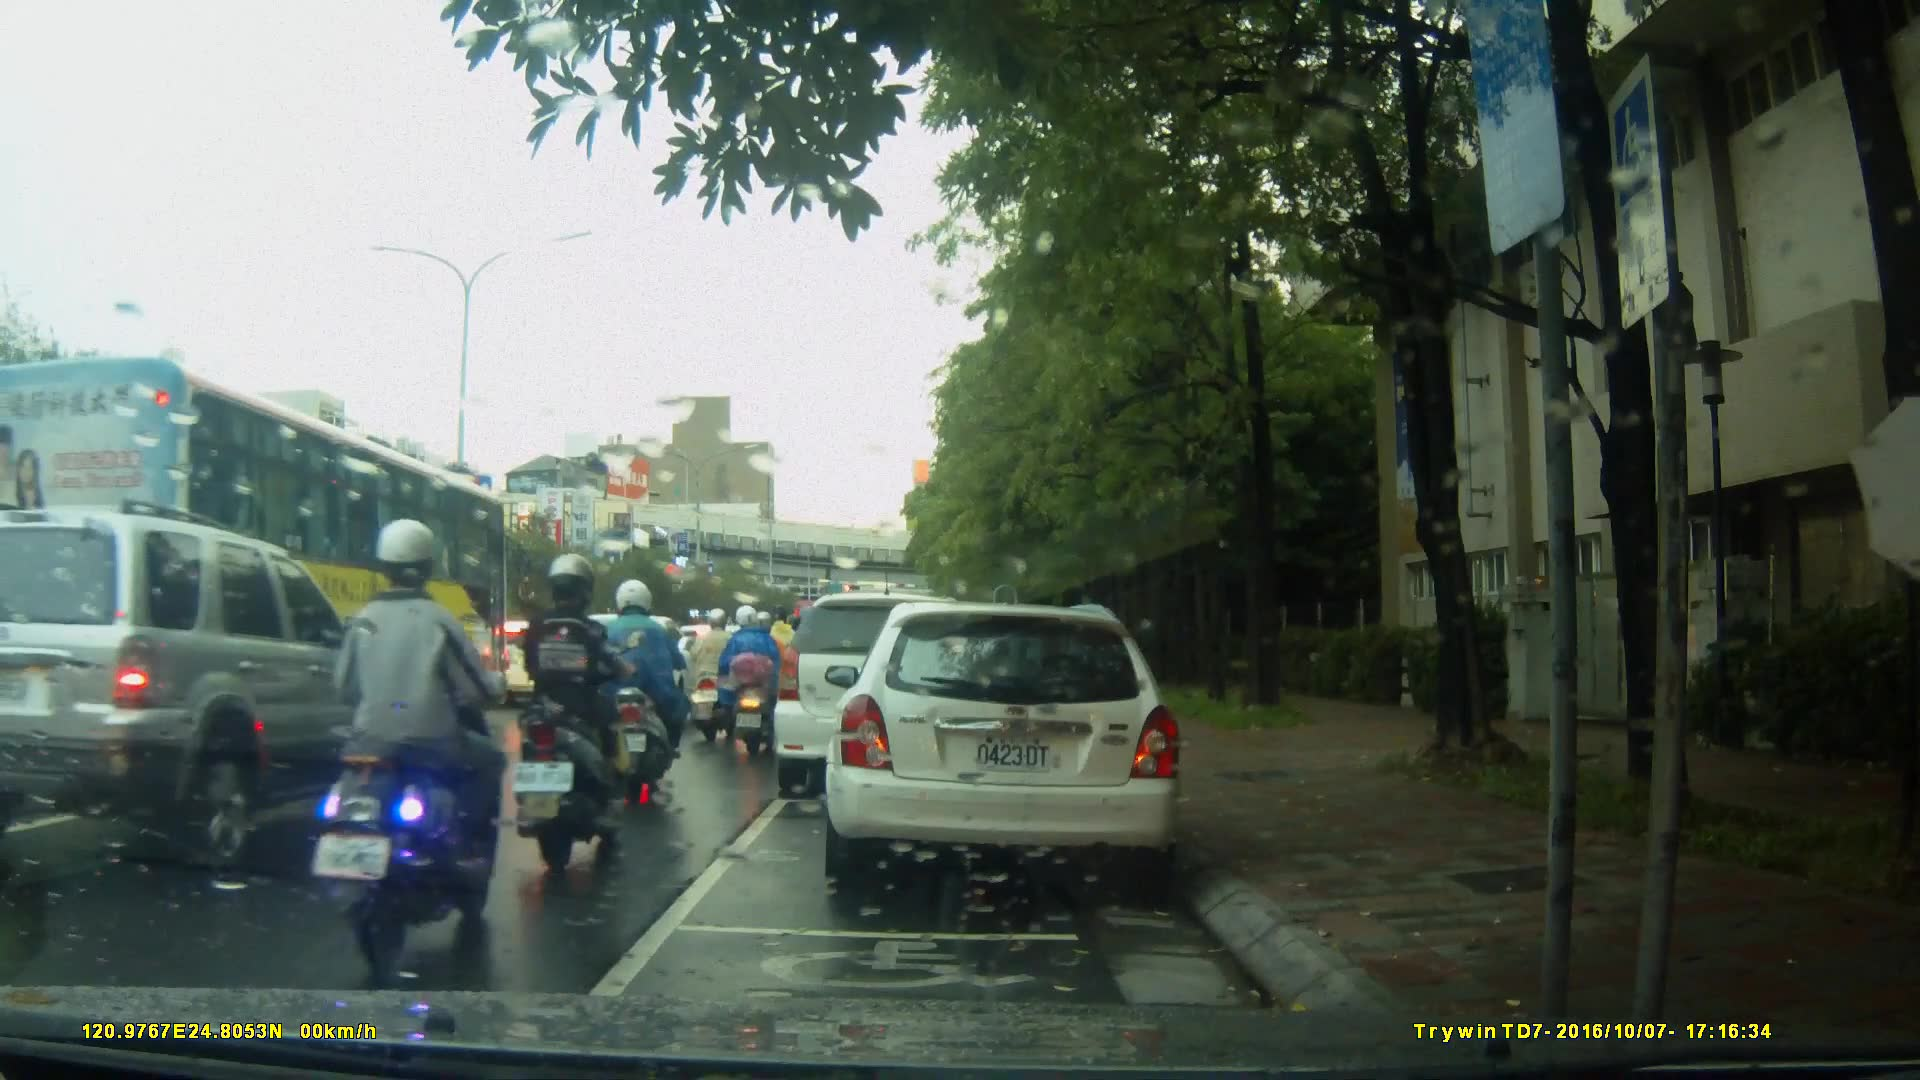rider: (313, 513, 507, 961), (514, 551, 638, 875), (595, 577, 695, 800), (718, 608, 799, 748), (683, 601, 741, 741), (758, 603, 802, 713)
vehicle: (2, 356, 521, 775), (1, 499, 420, 890), (835, 594, 1194, 898), (776, 590, 1026, 784)
